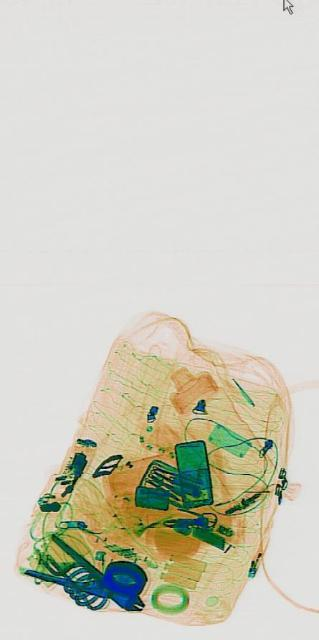Pliers: (22, 522, 147, 630)
